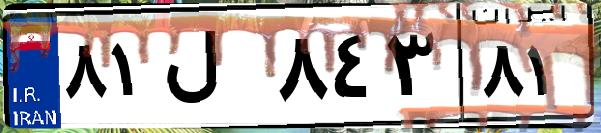1: (525, 38, 570, 115), (110, 28, 158, 98)
3: (385, 28, 445, 110)
4: (330, 28, 385, 110)
8: (270, 28, 330, 110), (57, 26, 110, 100), (475, 38, 525, 113)
ل: (158, 20, 270, 120)
